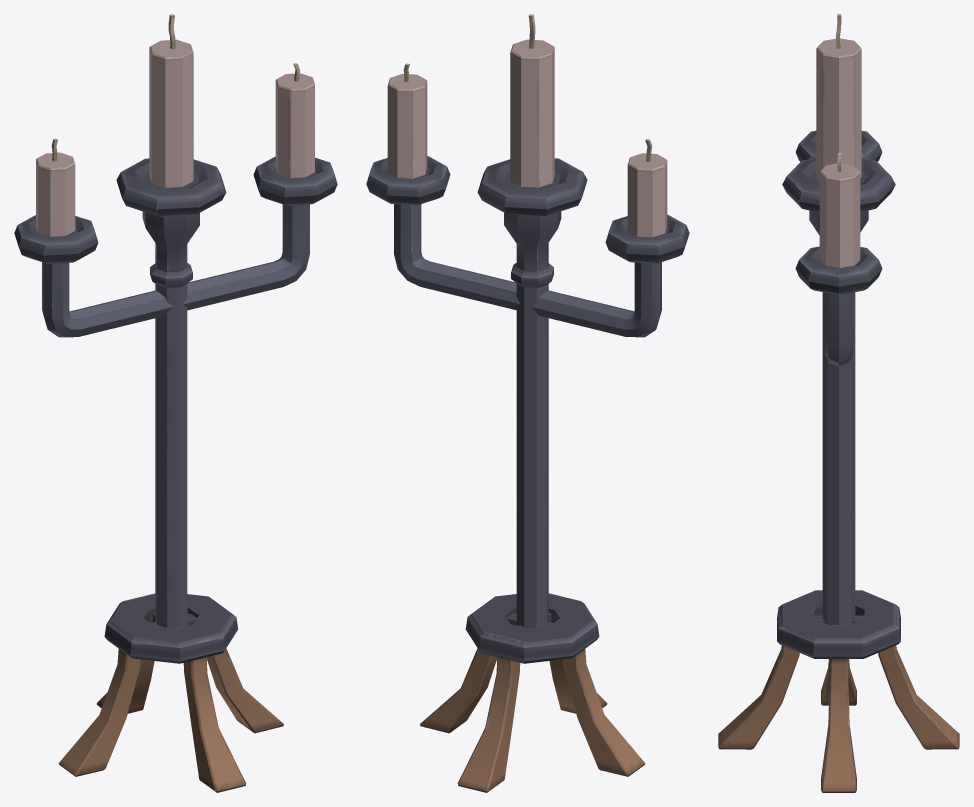
File: CandelabroTriplo.fbx
The picture shows the model from 3 angles, left to right: view 1: azimuth 30°, elevation 25°; view 2: azimuth 150°, elevation 25°; view 3: azimuth 270°, elevation 25°; orthographic projection.
Parts seen in each view (by area): view 1: Vela com pedestal 2; view 2: Vela com pedestal 2; view 3: Vela com pedestal 2.
Part boxes in pixels (x1,y1,x2,y2): Vela com pedestal 2: [14, 14, 337, 792]; Vela com pedestal 2: [366, 14, 689, 792]; Vela com pedestal 2: [718, 14, 959, 792].
Bounding box in the file's own units: 59.91 × 133 × 39.85.
1 material, 1 textured.
